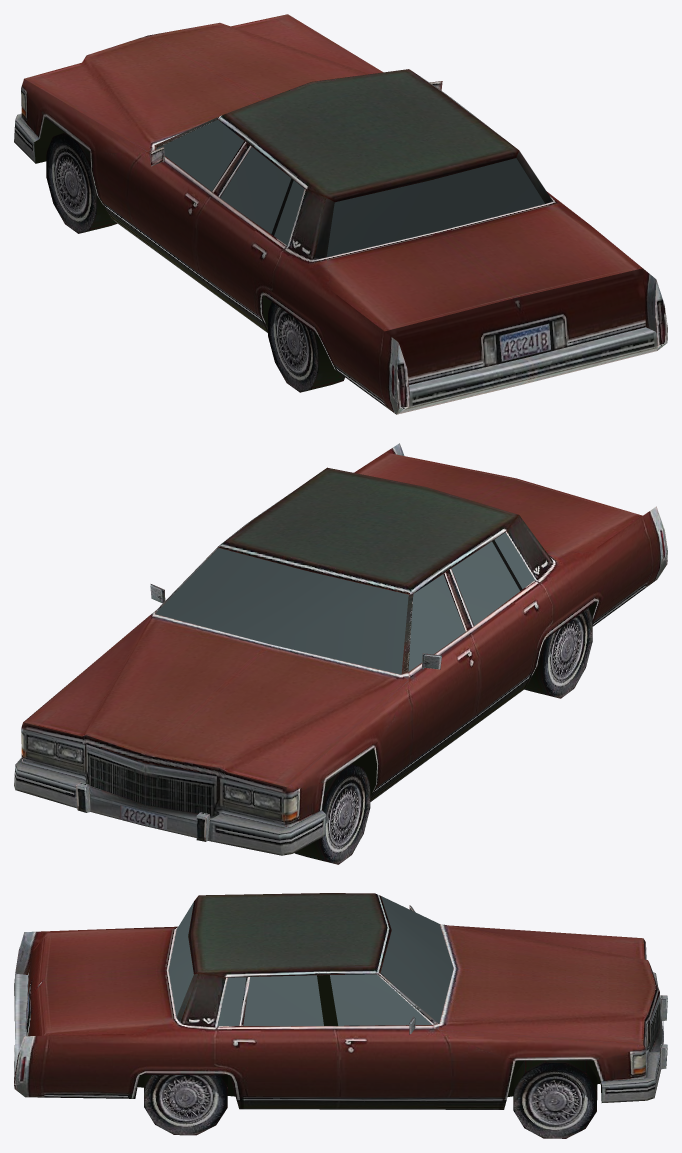
File: p54_03_sedan_classic_maroon.glb
3 renders of one model, top to bottom at view 1: azimuth 30°, elevation 25°; view 2: azimuth 150°, elevation 25°; view 3: azimuth 270°, elevation 25°, orthographic. The views are drawn at different scales.
Visible parts, largest first — view 1: Body, Glass; view 2: Body, Glass; view 3: Body, Glass.
Part boxes in pixels (x1,y1,x2,y2): Body: (14,14,667,414); Glass: (156,120,544,257); Body: (14,443,667,864); Glass: (155,532,534,674); Body: (14,893,667,1138); Glass: (168,896,453,1026).
Bounding box in the file's own units: 2.19 × 1.35 × 5.1.
Materials: 2 (2 with a texture image).
